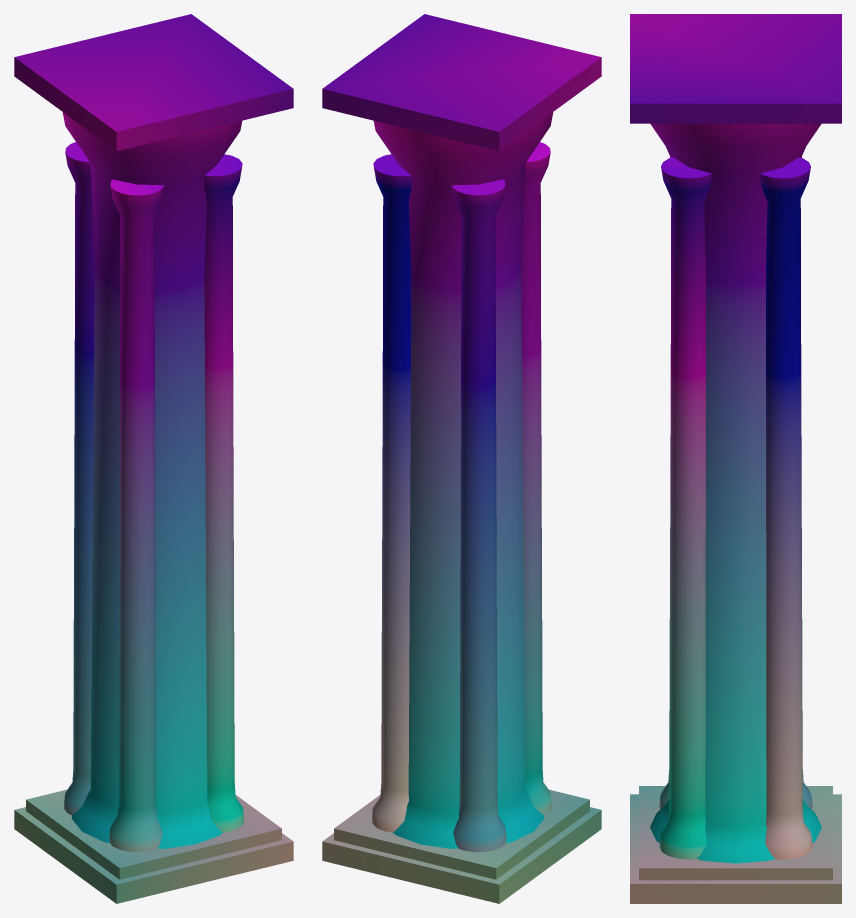
File: column_4m.glb
3 views of the same model, side by side, from view 1: azimuth 30°, elevation 25°; view 2: azimuth 150°, elevation 25°; view 3: azimuth 270°, elevation 25° (orthographic). The views are drawn at different scales.
Parts seen in each view (by area): view 1: pier, pier_plinth, colonnette.002, colonnette.003, colonnette.001; view 2: pier, pier_plinth, colonnette.001, colonnette, colonnette.002; view 3: pier, pier_plinth, colonnette, colonnette.003, colonnette.001, colonnette.002.
Boxes of the visible parts, bbox=[...] form: pier: bbox=[62, 112, 242, 848]; pier_plinth: bbox=[14, 14, 293, 903]; colonnette.002: bbox=[109, 179, 163, 852]; colonnette.003: bbox=[203, 154, 244, 832]; colonnette.001: bbox=[64, 142, 94, 815]; pier: bbox=[373, 112, 553, 848]; pier_plinth: bbox=[322, 14, 601, 903]; colonnette.001: bbox=[452, 179, 506, 852]; colonnette: bbox=[371, 154, 412, 832]; colonnette.002: bbox=[521, 142, 551, 815]; pier: bbox=[650, 123, 821, 863]; pier_plinth: bbox=[630, 14, 841, 903]; colonnette: bbox=[760, 157, 812, 859]; colonnette.003: bbox=[659, 157, 711, 859]; colonnette.001: bbox=[800, 147, 812, 808]; colonnette.002: bbox=[659, 147, 671, 808].
Bounding box in the file's own units: 0.96 × 4 × 0.96.
